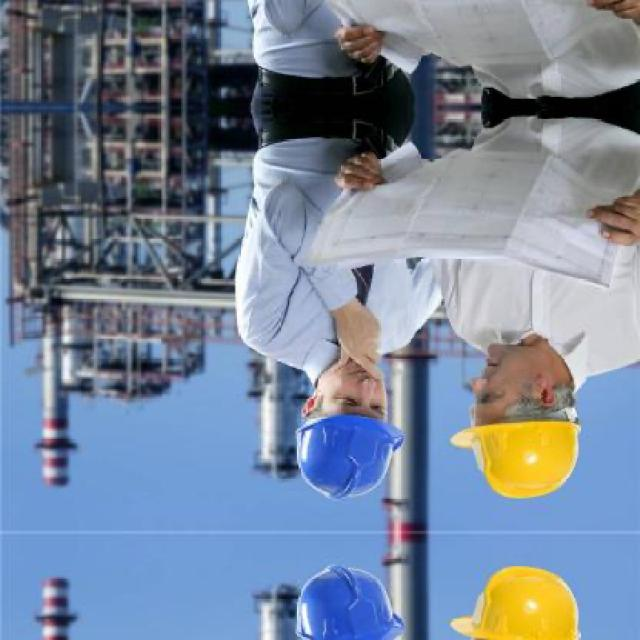con casco: (441, 352, 597, 507), (282, 314, 398, 508)
